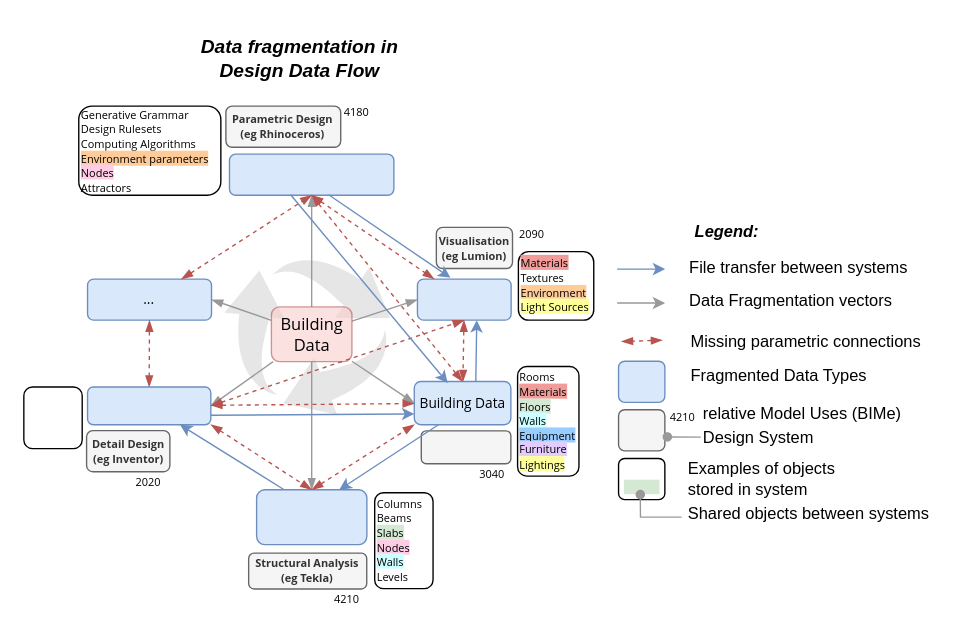
Image size: 980x632. Some labels were removed from this diagram. The box of each missing label's shape, as (x1, y1, x2, y2) in pixels:
Assemblies Data: (86, 386, 211, 425)
BIM Authoring (eg Revit): (420, 429, 511, 464)
Design Grammars Data: (228, 153, 394, 195)
Equipment Furniture Details: (22, 386, 82, 449)
Structural Analitics Data: (255, 488, 367, 545)
Visual Data: (416, 278, 511, 320)
